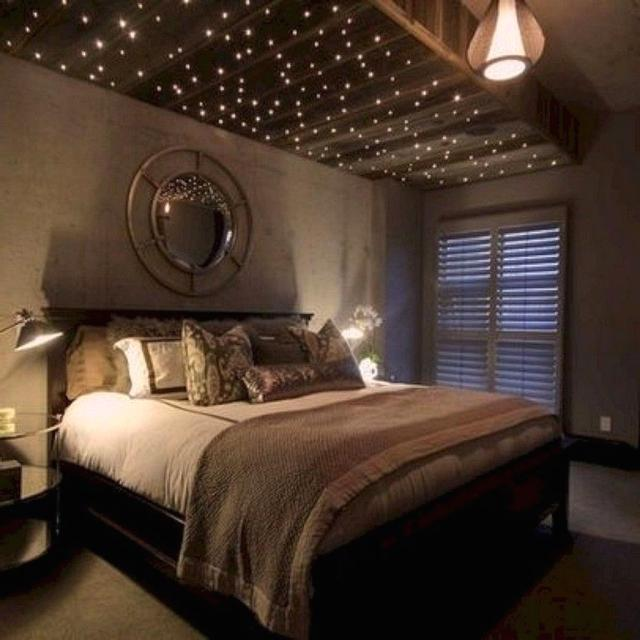bed: (64, 321, 567, 501)
